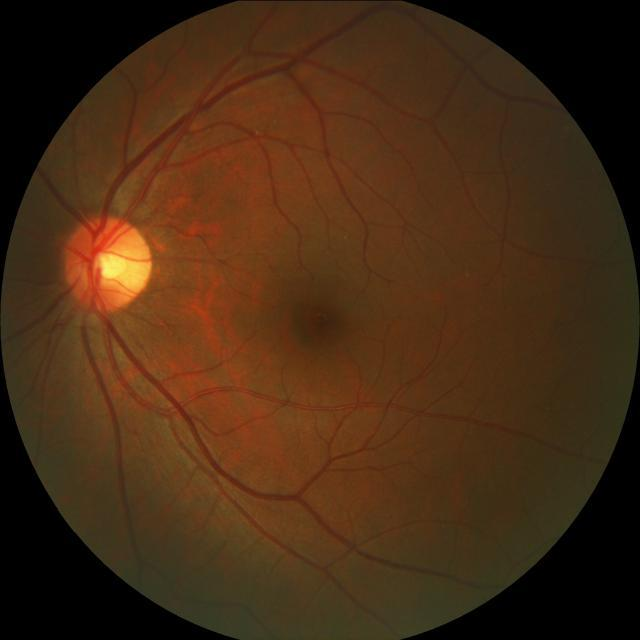OC: (96, 248, 127, 280)
OD: (63, 214, 154, 309)
